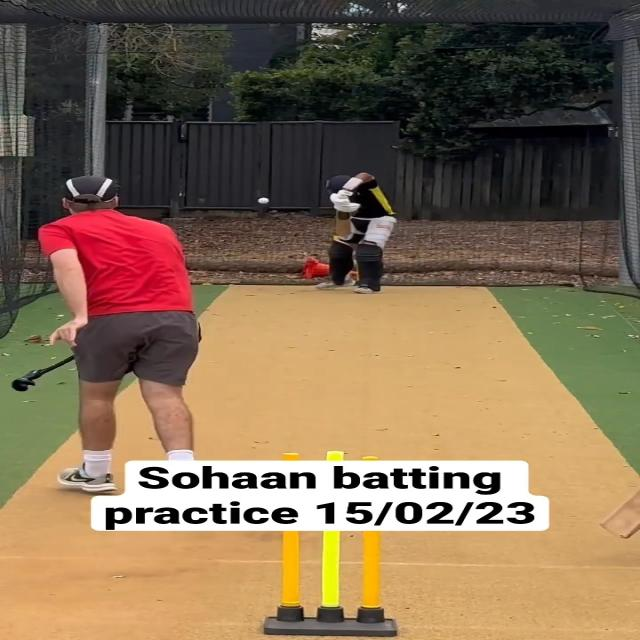ball: (258, 197, 270, 204)
stump: (271, 531, 398, 640)
